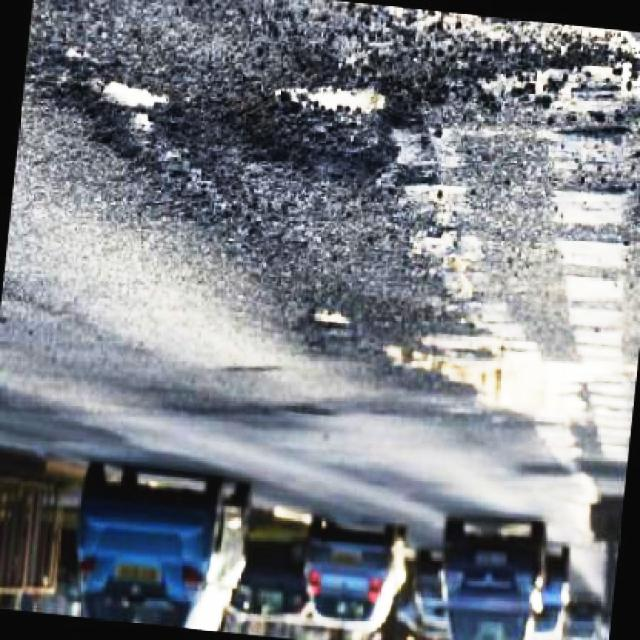pothole: (223, 32, 409, 191), (57, 52, 215, 206)
